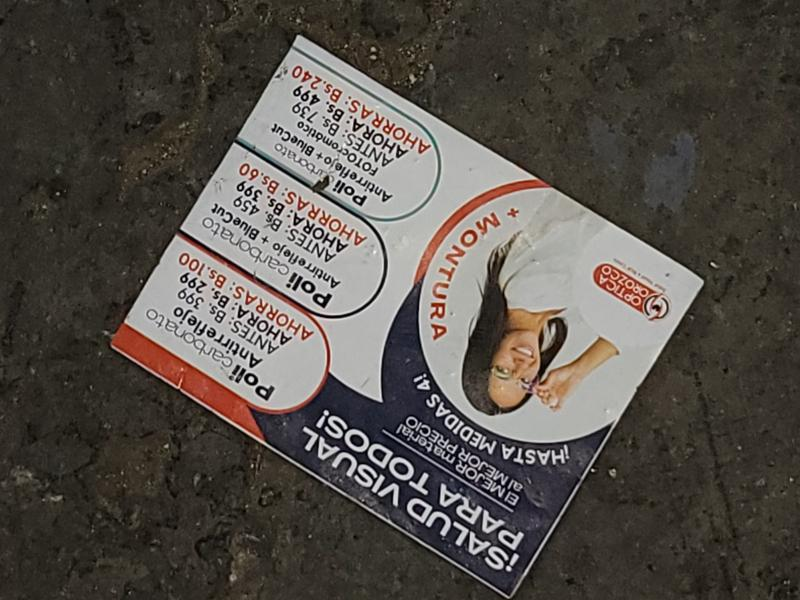papel: (109, 37, 705, 600)
